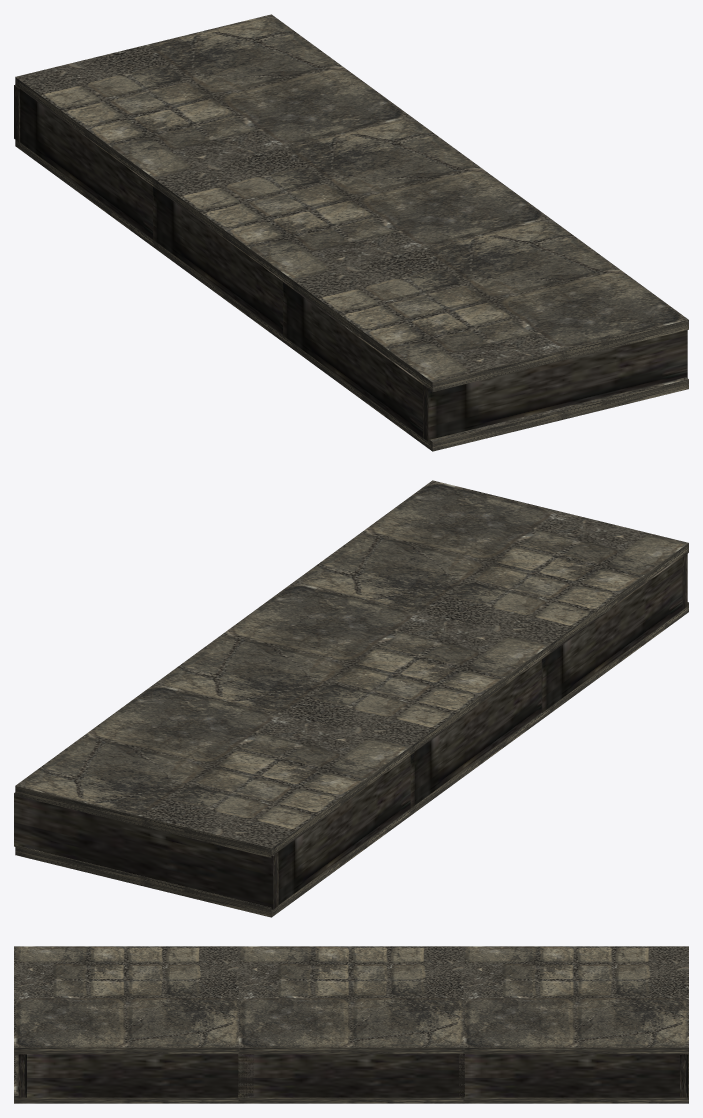
Rendered from longdungeon.glb.
3 renders of one model, top to bottom at view 1: azimuth 30°, elevation 25°; view 2: azimuth 150°, elevation 25°; view 3: azimuth 270°, elevation 25°, orthographic. The views are drawn at different scales.
Visible parts, largest first — view 1: Cube.023, Cube.024, Cube.022, Cube.002, Cube.013, Cube.016, Cube.005, Cube.010, Cube.006, Cube; view 2: Cube.024, Cube.022, Cube.023, Cube.003, Cube.013, Cube.016, Cube.005, Cube.006, Cube, Cube.010; view 3: Cube.022, Cube.024, Cube.023, Cube.004, Cube.012, Cube.009, Cube.010, Cube.006, Cube, Cube.002, Cube.003.
Boxes of the visible parts, x1,y1,x2,y2 form: Cube.023: [293, 217, 688, 391]; Cube.024: [15, 14, 410, 186]; Cube.022: [154, 116, 548, 287]; Cube.002: [423, 330, 687, 441]; Cube.013: [283, 282, 423, 437]; Cube.016: [17, 86, 154, 239]; Cube.005: [153, 186, 293, 334]; Cube.010: [293, 344, 688, 451]; Cube.006: [15, 140, 154, 247]; Cube: [154, 241, 293, 349]; Cube.024: [15, 684, 410, 857]; Cube.022: [155, 582, 549, 753]; Cube.023: [294, 480, 688, 651]; Cube.003: [14, 792, 278, 909]; Cube.013: [541, 556, 682, 712]; Cube.016: [276, 752, 414, 904]; Cube.005: [410, 652, 550, 807]; Cube.006: [15, 808, 410, 917]; Cube: [410, 707, 549, 815]; Cube.010: [550, 602, 688, 713]; Cube.022: [238, 946, 464, 1053]; Cube.024: [463, 946, 688, 1055]; Cube.023: [14, 946, 239, 1055]; Cube.004: [238, 1054, 464, 1097]; Cube.012: [27, 1054, 253, 1097]; Cube.009: [459, 1054, 684, 1097]; Cube.010: [14, 1055, 238, 1103]; Cube.006: [463, 1056, 688, 1103]; Cube: [238, 1097, 464, 1103]; Cube.002: [18, 1054, 27, 1097]; Cube.003: [680, 1054, 688, 1097].
Bounding box in the file's own units: 19.5 × 4.97 × 54.36.
Materials: 3 (3 with a texture image).
